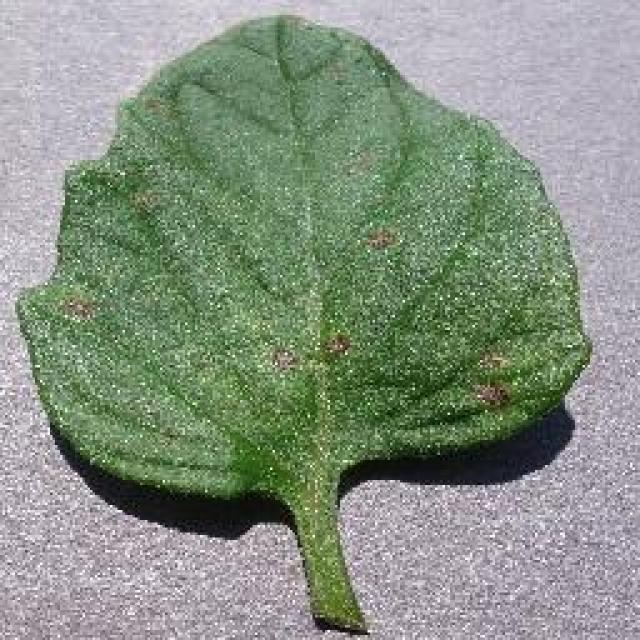Tomato target spot leaf: (18, 11, 590, 501)
